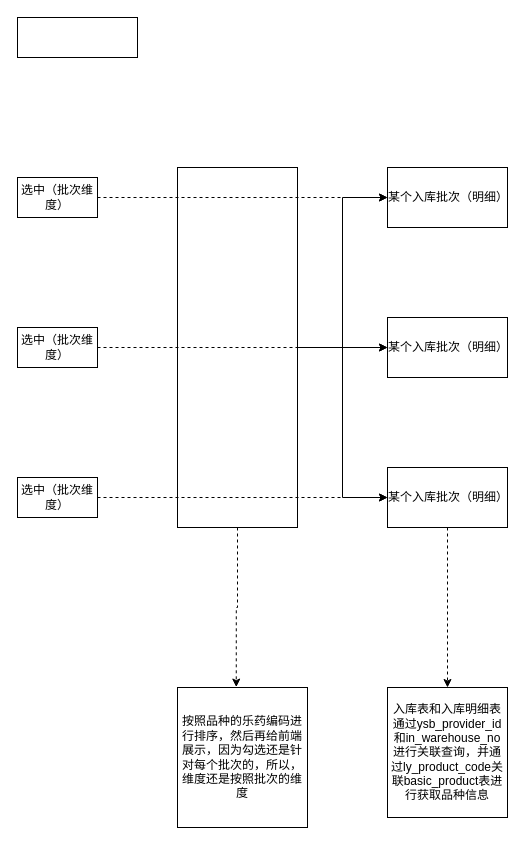
Some shapes in this 525 by 845 pixel diagram are drawn without their labels. Here are the shapes that lost their labels. From the top down, the centre of each, then its label:
At [77,37]: "17家子公司之一（必选）".
At [237,347]: "品种(明细表的lyProductCode)".
